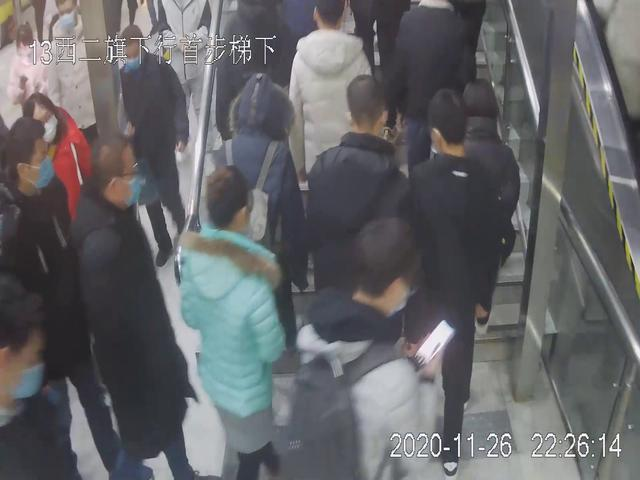person: (265, 214, 455, 480), (1, 116, 124, 478), (67, 132, 187, 480), (404, 84, 509, 480), (171, 161, 284, 480), (111, 24, 195, 272)
